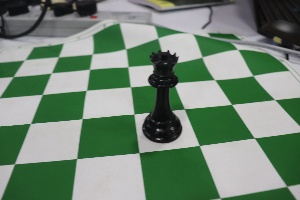black_queen: (137, 35, 187, 153)
